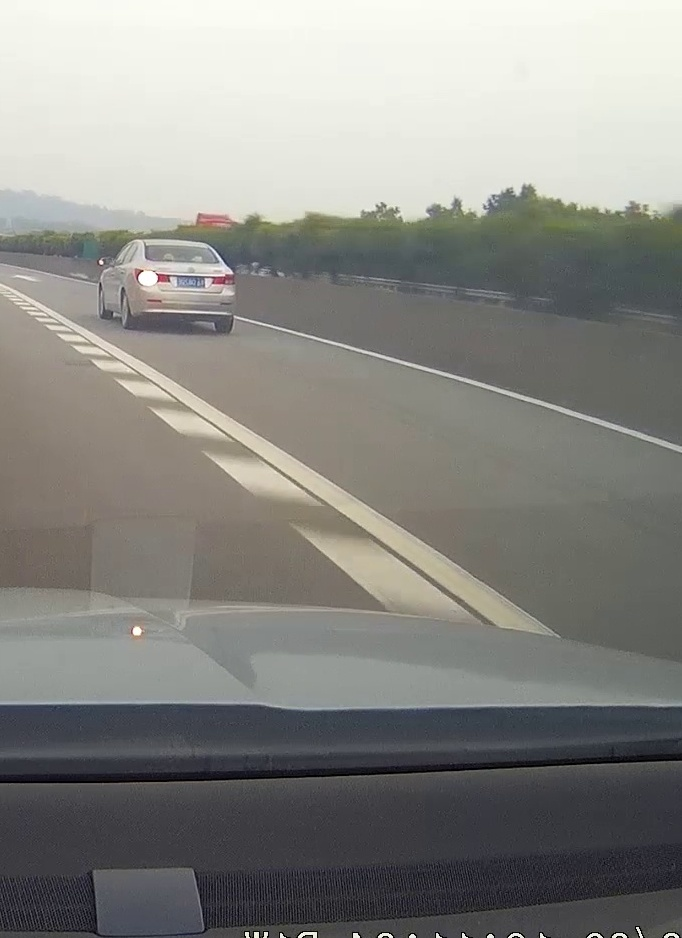L_light: (135, 268, 171, 283)
R_light: (212, 273, 236, 285)
T_light: (171, 246, 187, 250)
day-left: (133, 239, 236, 333)
